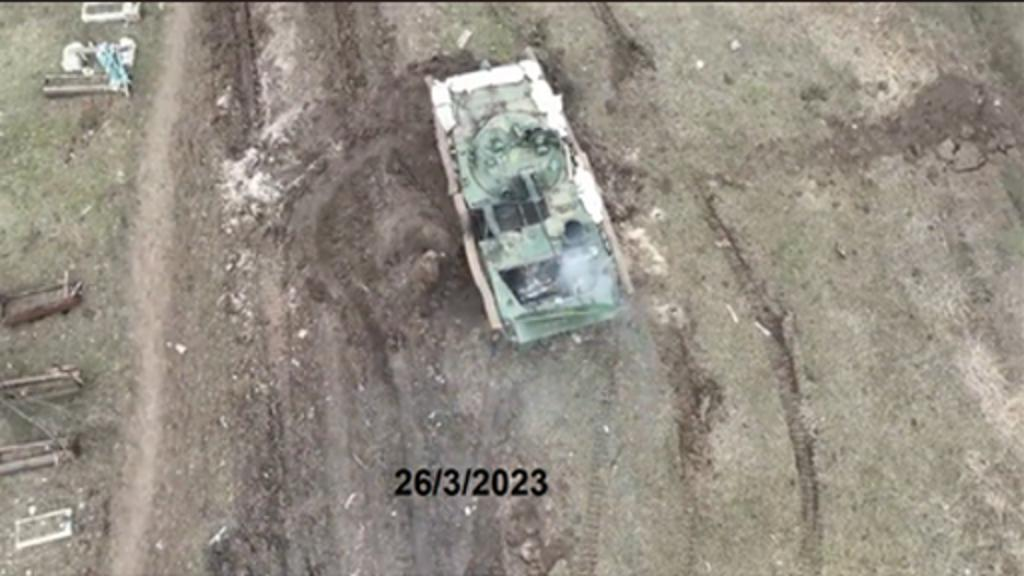APC-IFV: (416, 52, 642, 352)
